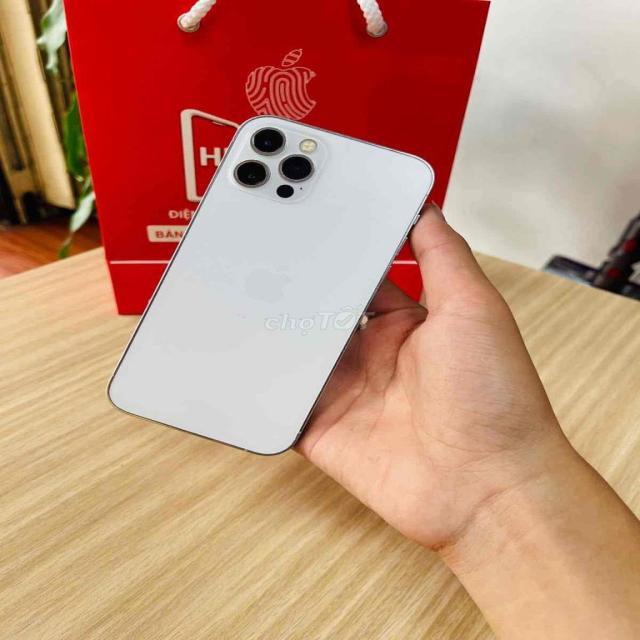gen_12_13: (100, 104, 437, 458)
